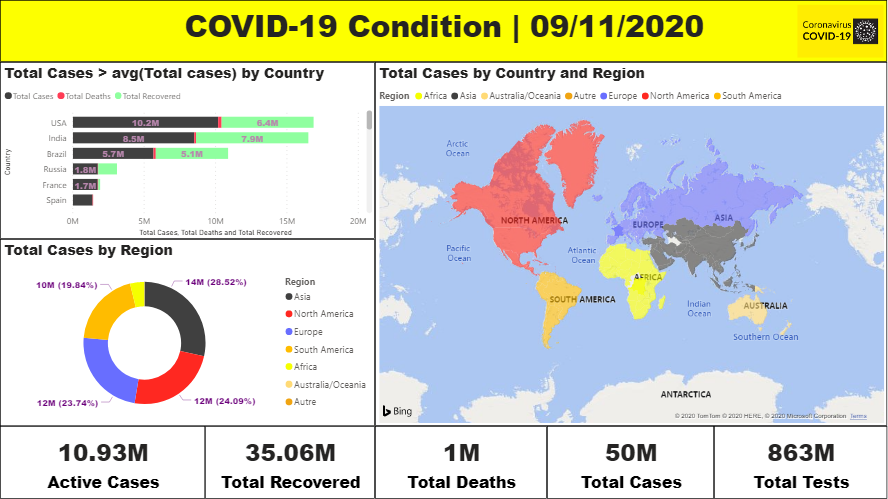

The page's visual inventory and layout, read from the dashboard file:
{"tool":"powerbi","page":{"name":"Dashbord_Mysql","canvas":[1280,720],"ordinal":0},"visuals":[{"type":"donutChart","fields":{"Category":["data_covid.Region"],"Y":["Sum(data_covid.Total Cases)"]},"box":[0,344.8,541.1,269.8],"z":0},{"type":"card","fields":{"Values":["Sum(data_covid.Total Tests)"]},"box":[1030.2,614.7,249.6,105.3],"z":1000},{"type":"card","fields":{"Values":["Sum(data_covid.Total Cases)"]},"box":[789.3,614.7,241,105.3],"z":2000},{"type":"card","fields":{"Values":["Sum(data_covid.Total Deaths)"]},"box":[541.1,614.7,248.2,105.3],"z":3000},{"type":"card","fields":{"Values":["Sum(data_covid.Total Recovered)"]},"box":[253.9,614.7,287.1,105.3],"z":4000},{"type":"card","fields":{"Values":["Sum(data_covid.Active Cases)"]},"box":[0,614.7,253.9,105.3],"z":5000},{"type":"filledMap","fields":{"Series":["data_covid.Region"],"Category":["data_covid.Country"]},"box":[541.1,89.5,738.8,525.2],"z":6000},{"type":"textbox","box":[0,0,1279.8,89.5],"z":7000},{"type":"image","box":[1145.7,0,134.2,89.5],"z":8000},{"type":"barChart","title":"Total Cases > avg(Total cases)  by Country","fields":{"Category":["data_covid.Country"],"Y":["Sum(data_covid.Total Cases)","Sum(data_covid.Total Deaths)","Sum(data_covid.Total Recovered)"]},"box":[0,89.5,541.1,255.4],"z":9000}]}

Visuals, with their boxes in screenshot pixels (x1, y1, x2, y2), scaled from the page's 1280x720 canvas onto the 888x499 screenshot:
donutChart - data_covid.Region x Sum(data_covid.Total Cases): (0,239,375,426)
card - Sum(data_covid.Total Tests): (715,426,887,498)
card - Sum(data_covid.Total Cases): (548,426,715,498)
card - Sum(data_covid.Total Deaths): (375,426,548,498)
card - Sum(data_covid.Total Recovered): (176,426,375,498)
card - Sum(data_covid.Active Cases): (0,426,176,498)
filledMap - data_covid.Region x data_covid.Country: (375,62,887,426)
textbox: (0,0,887,62)
image: (795,0,887,62)
"Total Cases > avg(Total cases)  by Country" barChart: (0,62,375,239)
